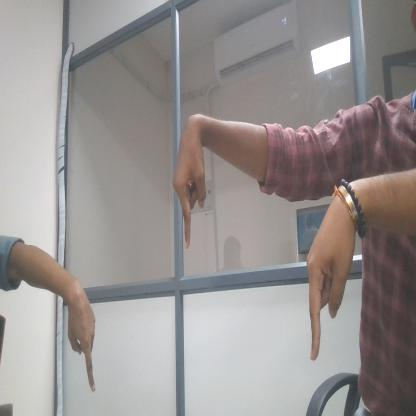Down: (299, 185, 371, 371), (166, 107, 221, 260), (59, 268, 117, 406)
